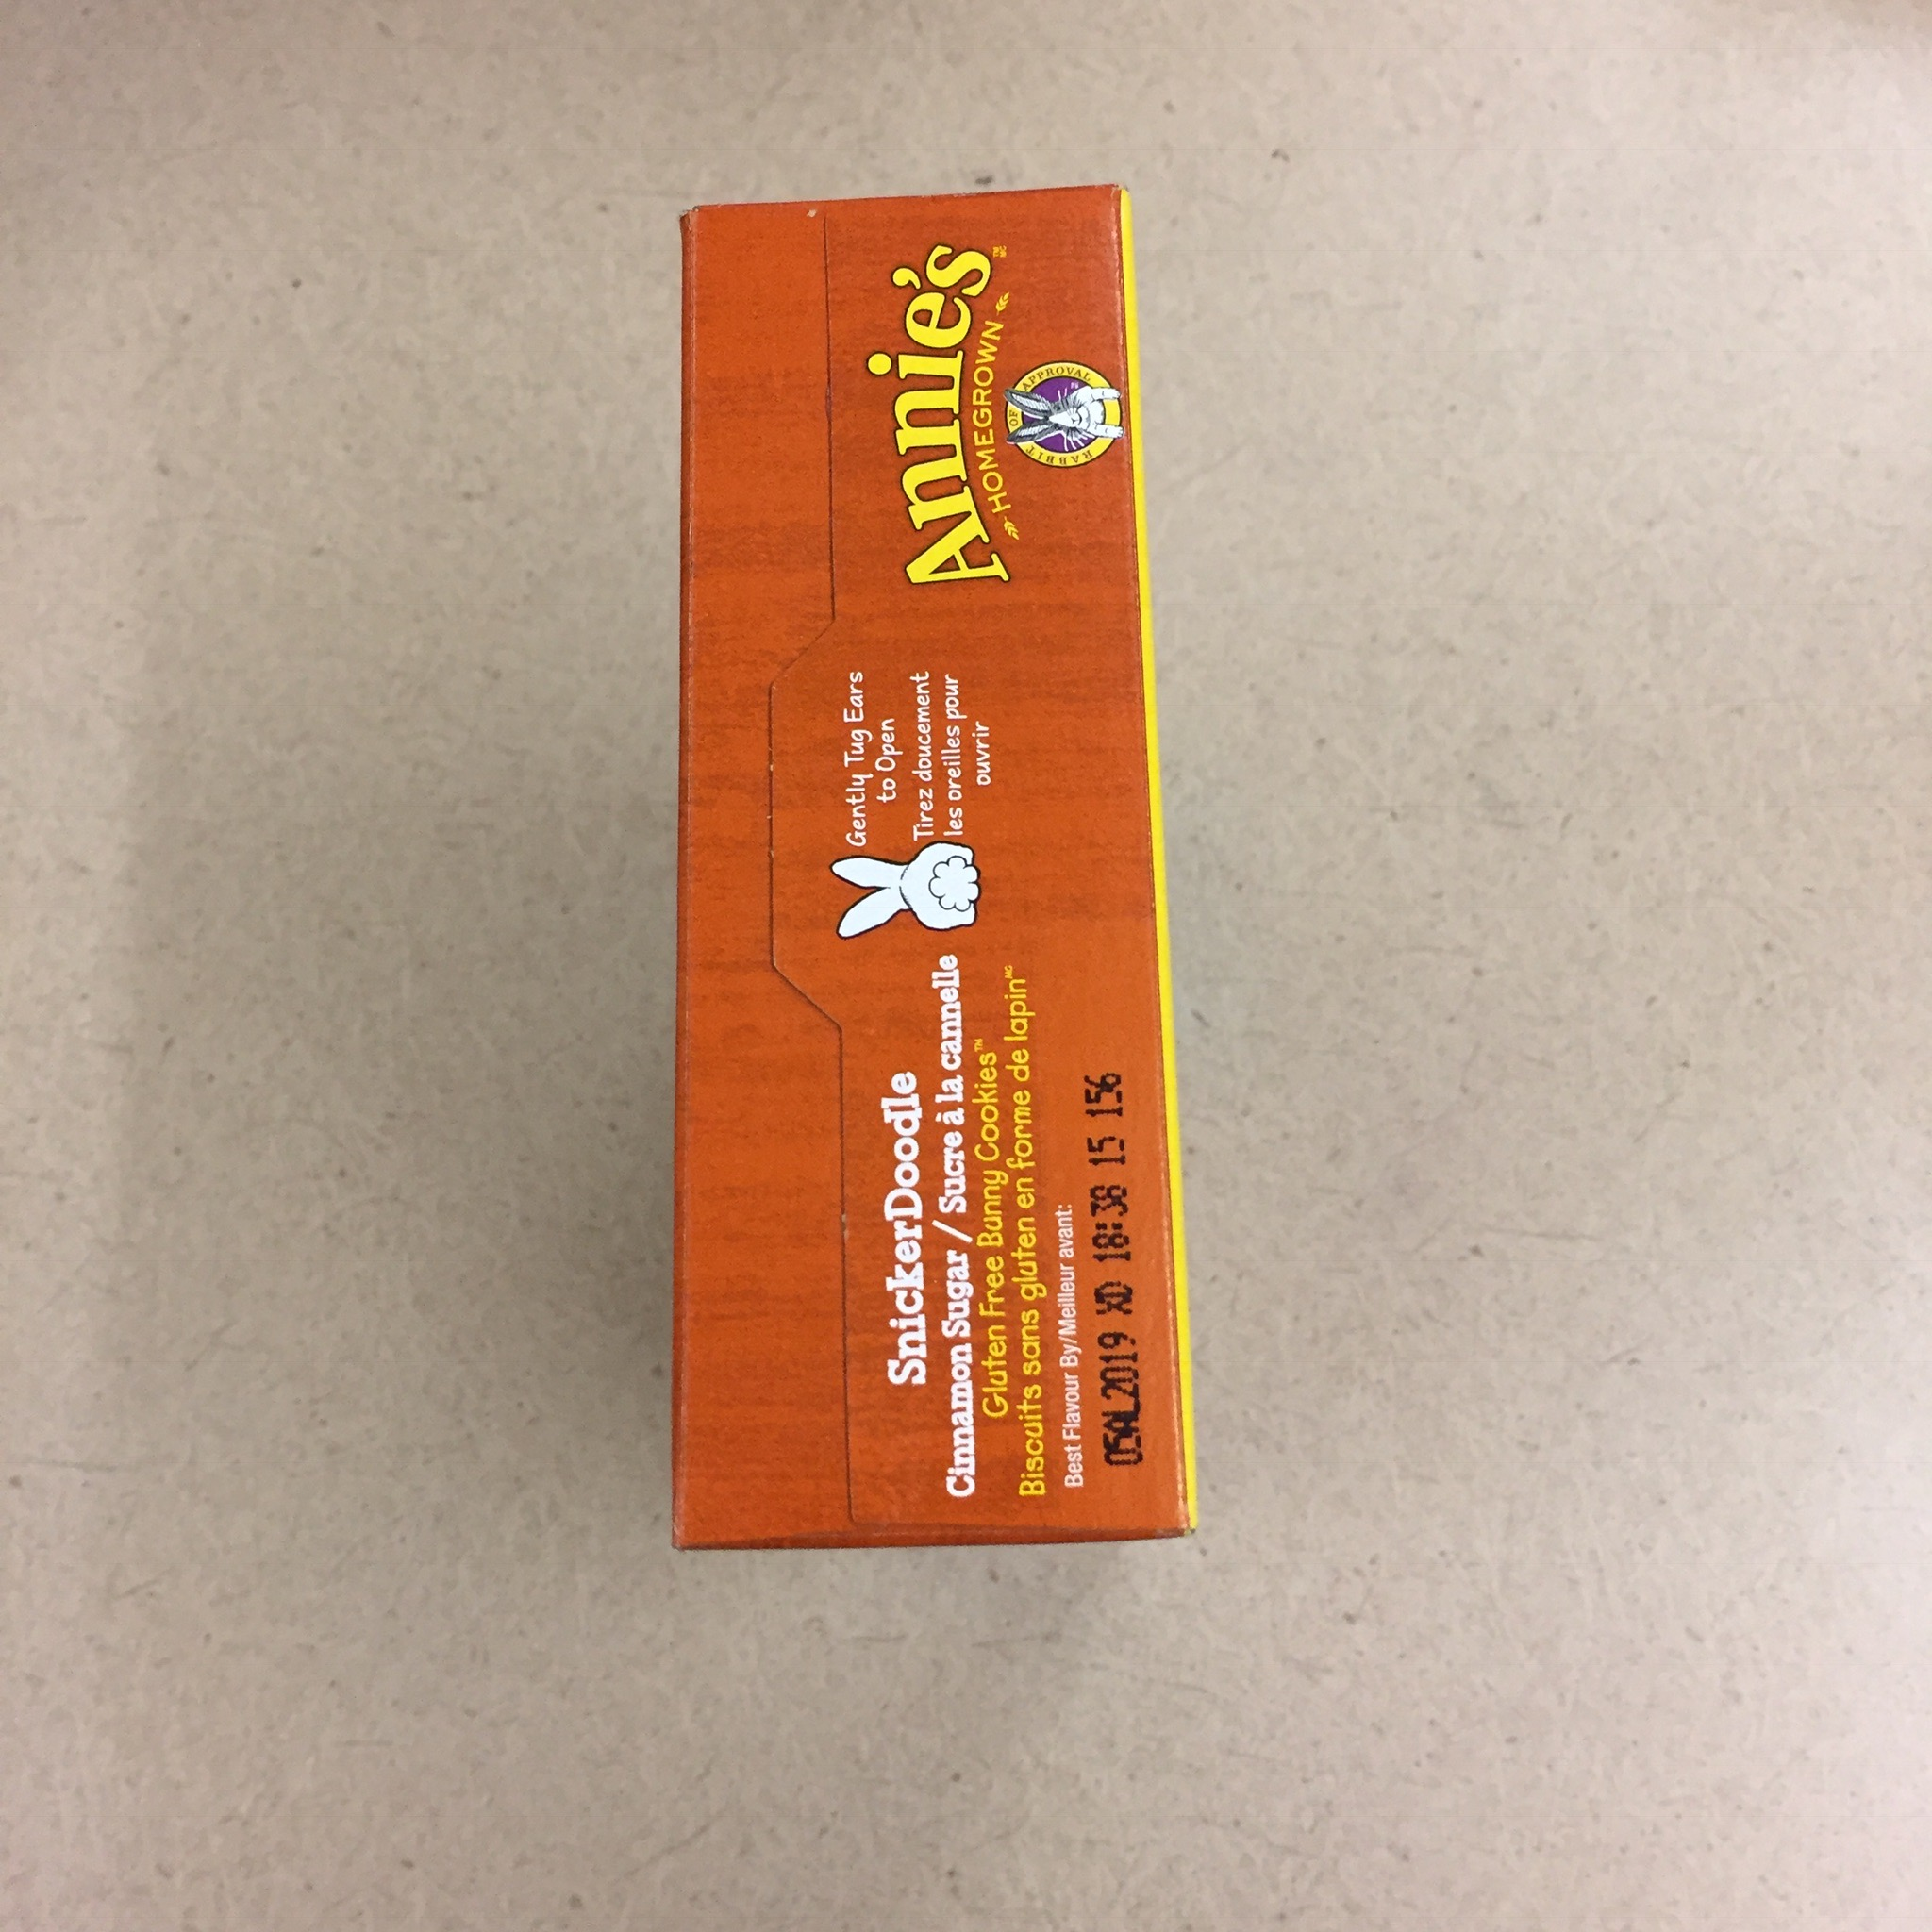annies_snickerdoodle_cinnamon_sugar: (660, 177, 1207, 1560)
